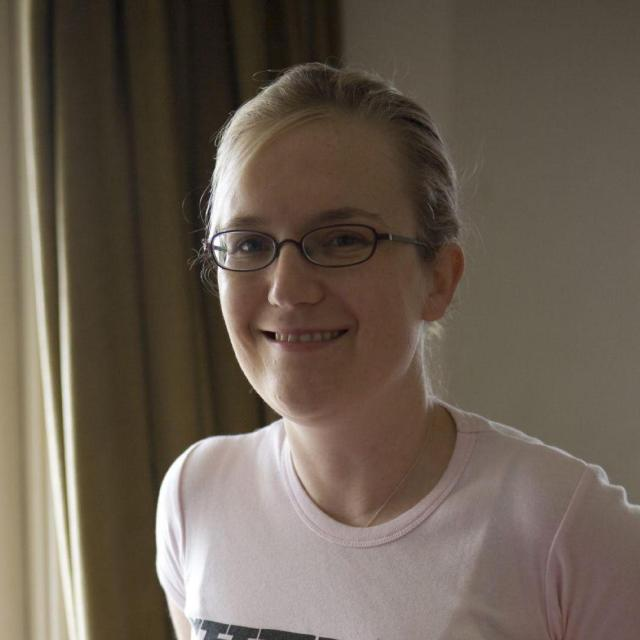no-glass: (238, 231, 364, 271)
